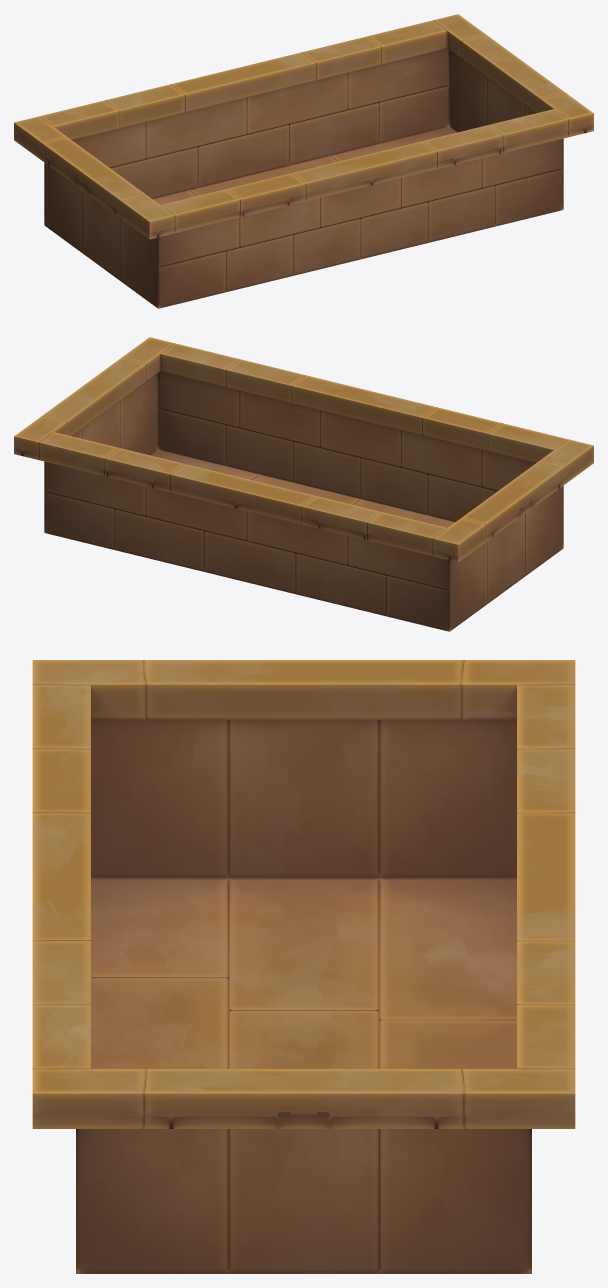
The model's file is MSH_Midfloor.fbx.
The picture shows the model from 3 angles, top to bottom: view 1: azimuth 30°, elevation 25°; view 2: azimuth 150°, elevation 25°; view 3: azimuth 270°, elevation 25°; orthographic projection. The views are drawn at different scales.
Visible parts, largest first — view 1: MSH_Midfloor; view 2: MSH_Midfloor; view 3: MSH_Midfloor.
Part boxes in pixels (x1,y1,x2,y2): MSH_Midfloor: [14, 14, 593, 308]; MSH_Midfloor: [14, 337, 593, 631]; MSH_Midfloor: [32, 660, 575, 1273].
Size of the model in its own units: 790 by 169 by 418.
